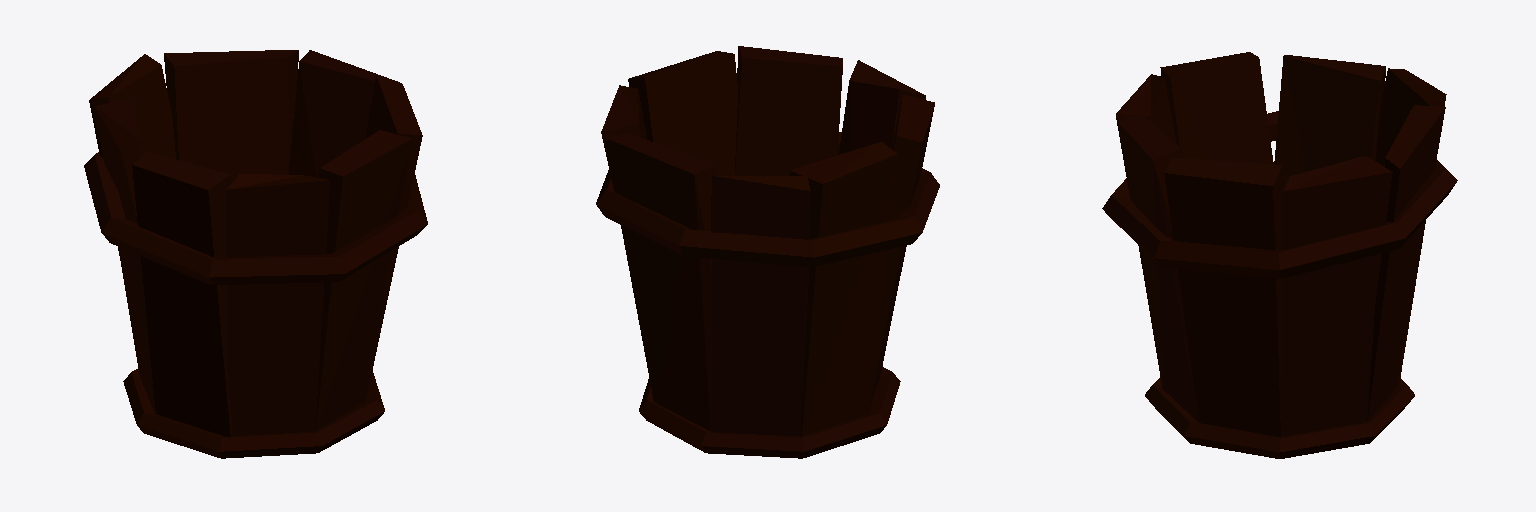
File: cubo.obj
The picture shows the model from 3 angles: view 1: azimuth 30°, elevation 25°; view 2: azimuth 150°, elevation 25°; view 3: azimuth 270°, elevation 25°; orthographic projection.
Visible parts, largest first — view 1: Box034; view 2: Box034; view 3: Box034.
Part boxes in pixels (left/top/right/bottom): Box034: left=84, top=50, right=427, bottom=458; Box034: left=596, top=46, right=939, bottom=458; Box034: left=1102, top=52, right=1457, bottom=458.
Size of the model in its own units: 0.8191 by 0.7607 by 0.816.